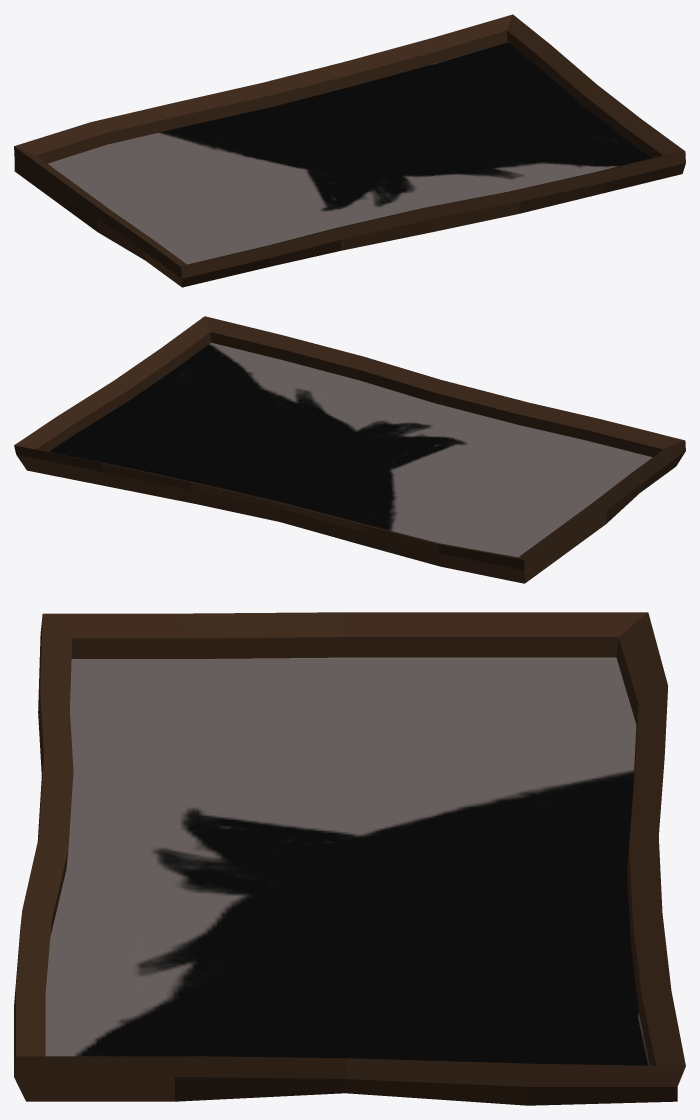
File: EckFrame3.fbx
3 views of the same model, one above another, from view 1: azimuth 30°, elevation 25°; view 2: azimuth 150°, elevation 25°; view 3: azimuth 270°, elevation 25° (orthographic). The views are drawn at different scales.
Visible parts, largest first — view 1: EckFrame3; view 2: EckFrame3; view 3: EckFrame3.
Part boxes in pixels (<box>): EckFrame3: <box>14,14,685,287</box>; EckFrame3: <box>14,316,685,583</box>; EckFrame3: <box>14,612,685,1105</box>.
Size of the model in its own units: 396 by 18.39 by 248.
